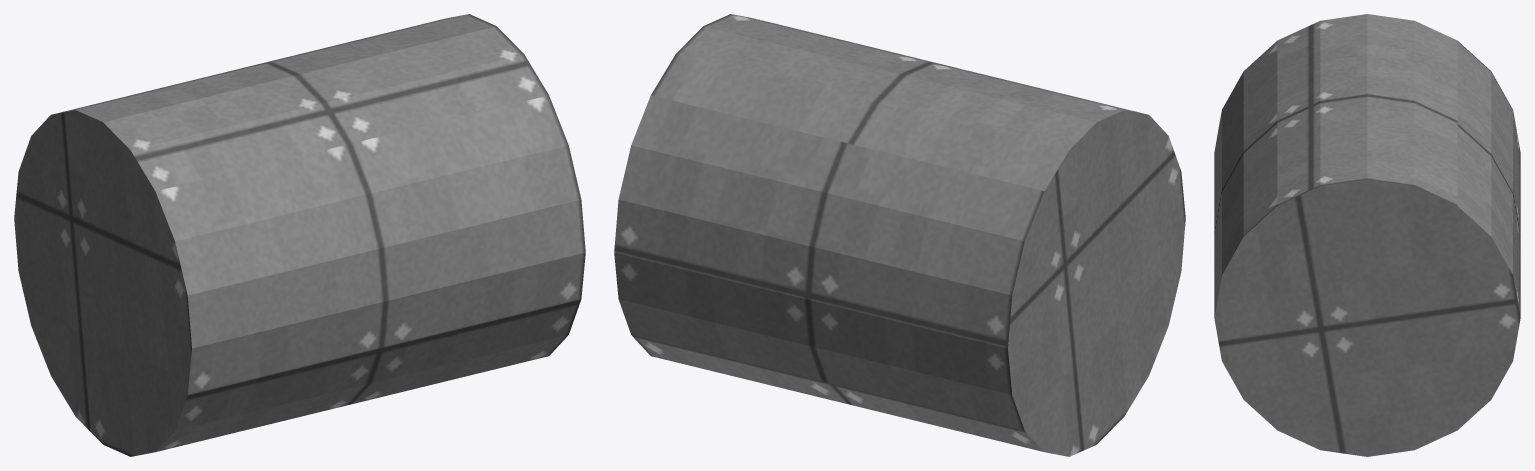
The model's file is attach_7.glb.
3 renders of one model, left to right at view 1: azimuth 30°, elevation 25°; view 2: azimuth 150°, elevation 25°; view 3: azimuth 270°, elevation 25°, orthographic. The views are drawn at different scales.
Visible parts, largest first — view 1: attach_7; view 2: attach_7; view 3: attach_7.
Part boxes in pixels (x1=…): attach_7: x1=14, y1=14, x2=585, y2=456; attach_7: x1=614, y1=14, x2=1185, y2=456; attach_7: x1=1214, y1=14, x2=1520, y2=456.
Size of the model in its own units: 0.46 by 0.36 by 0.36.
Materials: 1 (1 with a texture image).
